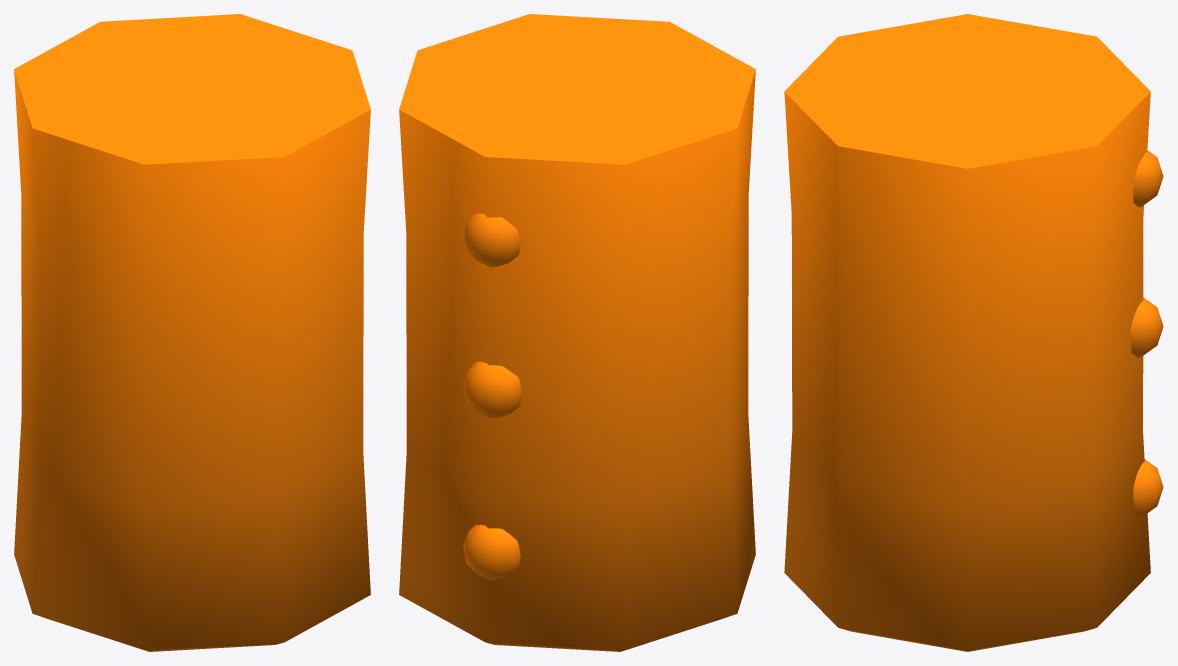
Rendered from bronze_grip_109.glb.
3 renders of one model, left to right at view 1: azimuth 30°, elevation 25°; view 2: azimuth 150°, elevation 25°; view 3: azimuth 270°, elevation 25°, orthographic.
Visible parts, largest first — view 1: bronze_grip_109; view 2: bronze_grip_109; view 3: bronze_grip_109.
Part boxes in pixels (box(x1,y1,x2,y2)): bronze_grip_109: box(14, 14, 370, 651); bronze_grip_109: box(399, 14, 755, 651); bronze_grip_109: box(784, 14, 1163, 651).
Size of the model in its own units: 2.07 by 3.05 by 2.14.
Materials: 1 (1 with a texture image).
